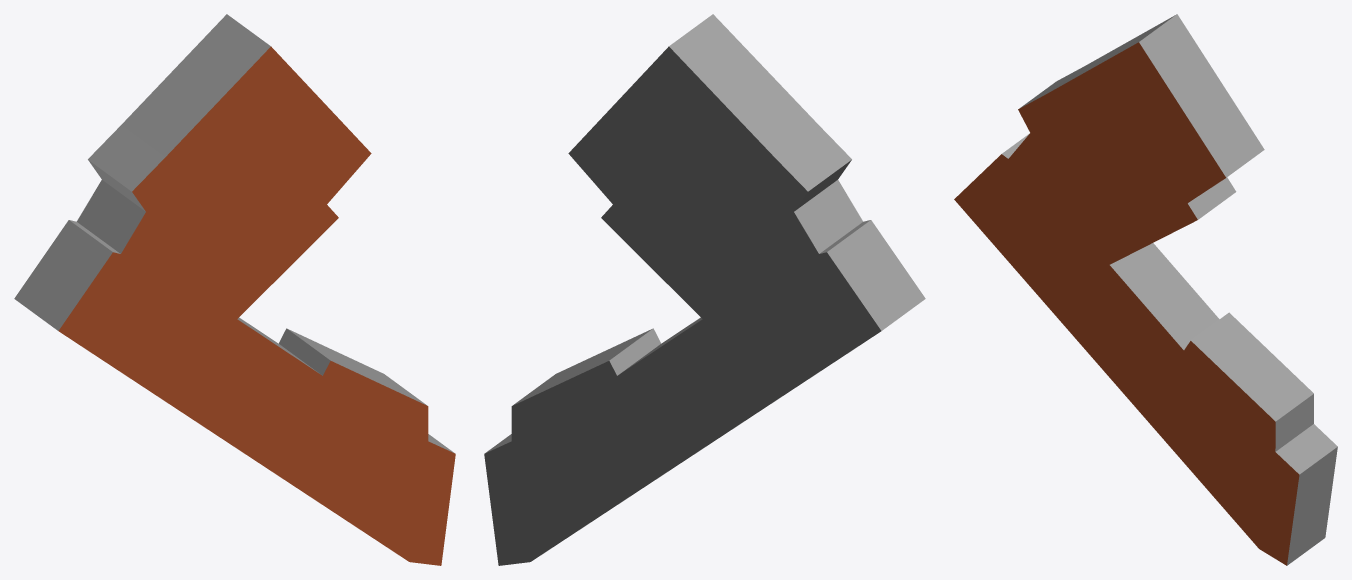
The model's file is construction_5729_assumed_A_Casa_h6m.obj.
3 views of the same model, side by side, from view 1: azimuth 30°, elevation 25°; view 2: azimuth 150°, elevation 25°; view 3: azimuth 330°, elevation 25° (orthographic). The views are drawn at different scales.
Parts seen in each view (by area): view 1: construction_5729_assumed_A_Casa; view 2: construction_5729_assumed_A_Casa; view 3: construction_5729_assumed_A_Casa.
Part boxes in pixels (<box>): construction_5729_assumed_A_Casa: <box>14,14,455,565</box>; construction_5729_assumed_A_Casa: <box>484,14,925,565</box>; construction_5729_assumed_A_Casa: <box>954,14,1337,565</box>.
Bounding box in the file's own units: 31.14 × 42.02 × 6.
